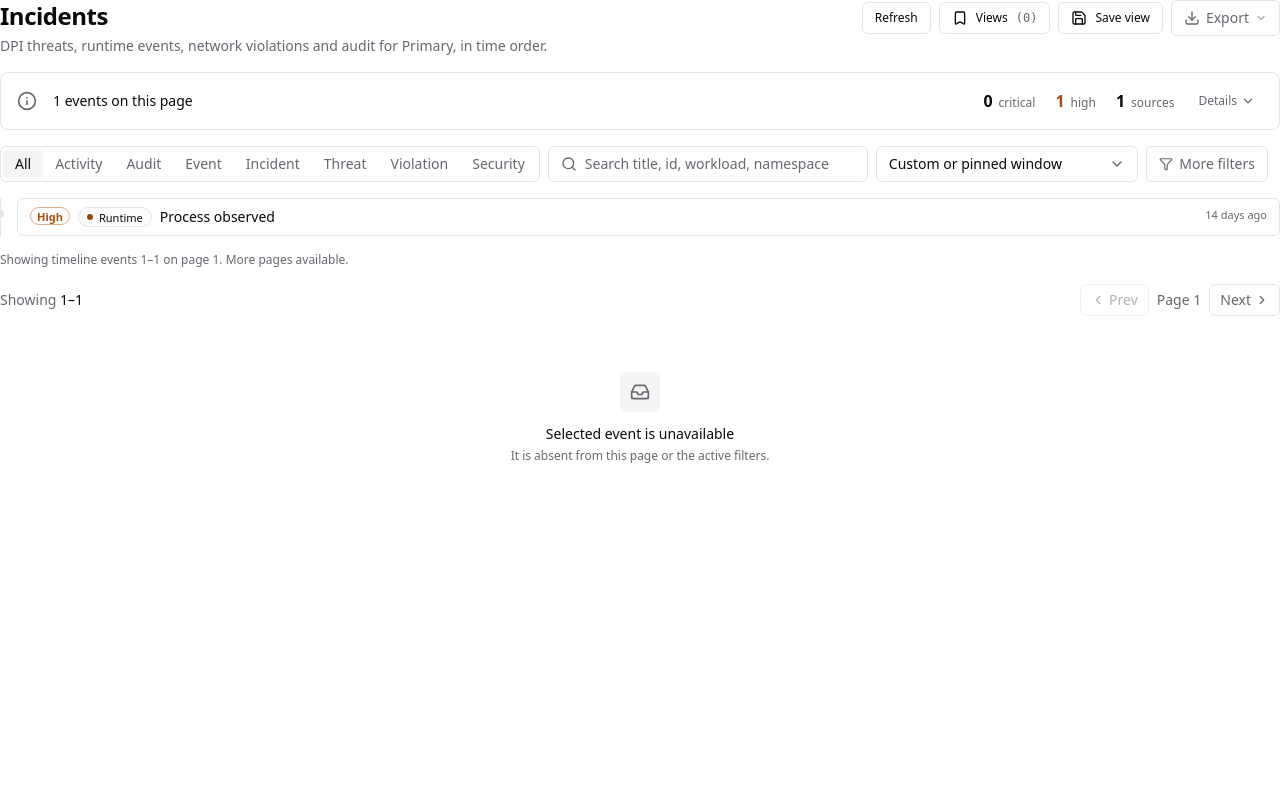
Test case: uses source plus ID for exact detail selection and never substitutes a missing event
This screenshot has width=1280, height=800.
Click the button with test id "timeline-event-row" at (50, 216), box [17,198,1279,236]
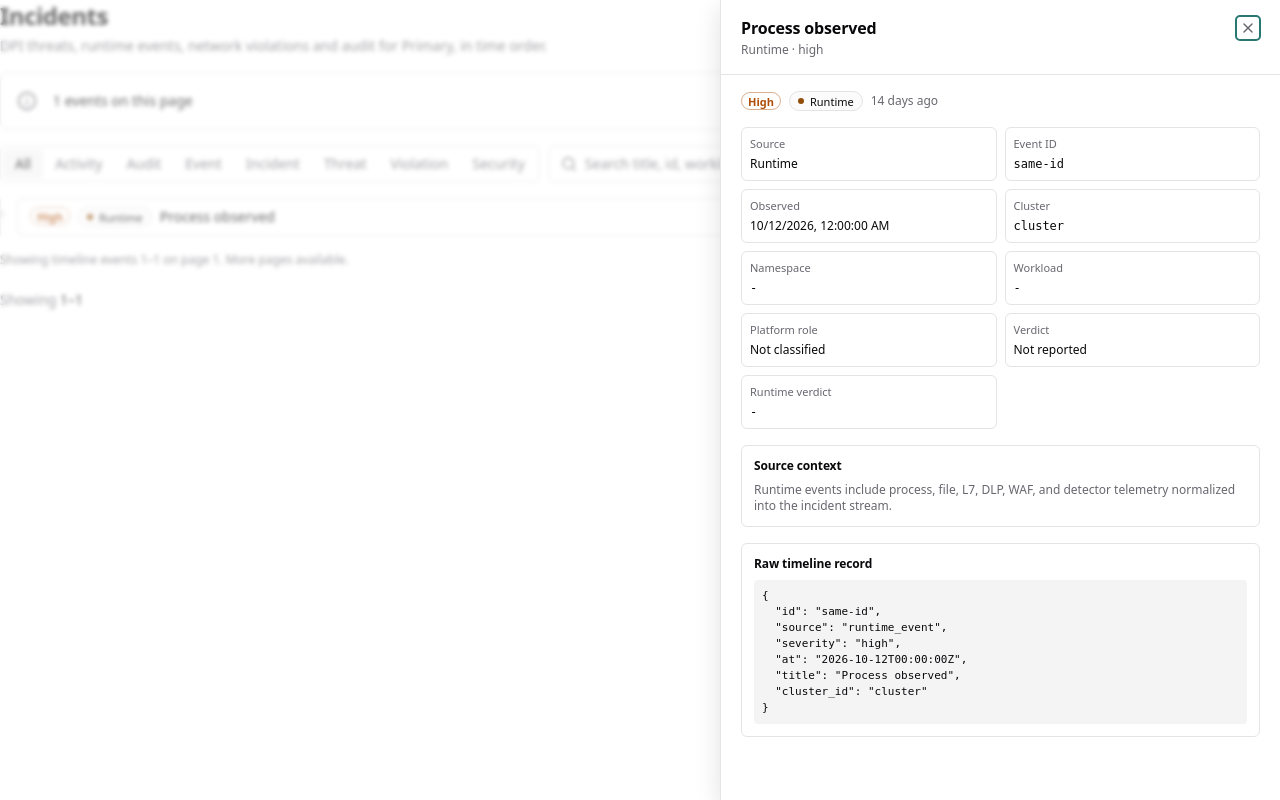
Now the element with test id "timeline-detail-drawer" shows "Process observed", box [762,589,967,714]
